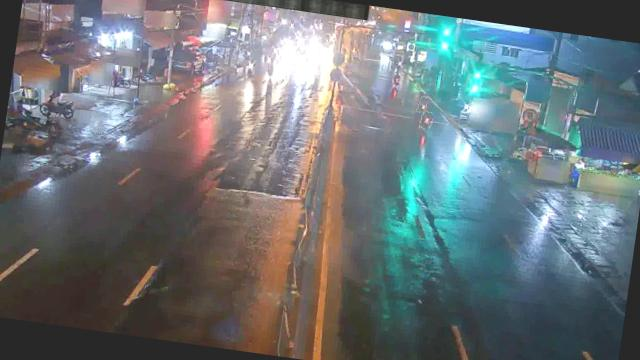Bike: (419, 110, 434, 130), (418, 96, 428, 113)
